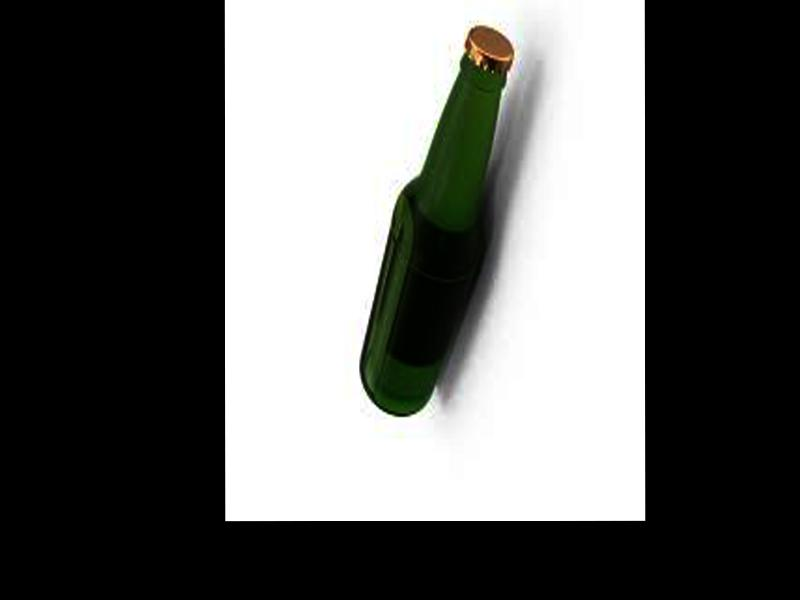Beer: (359, 23, 514, 416)
